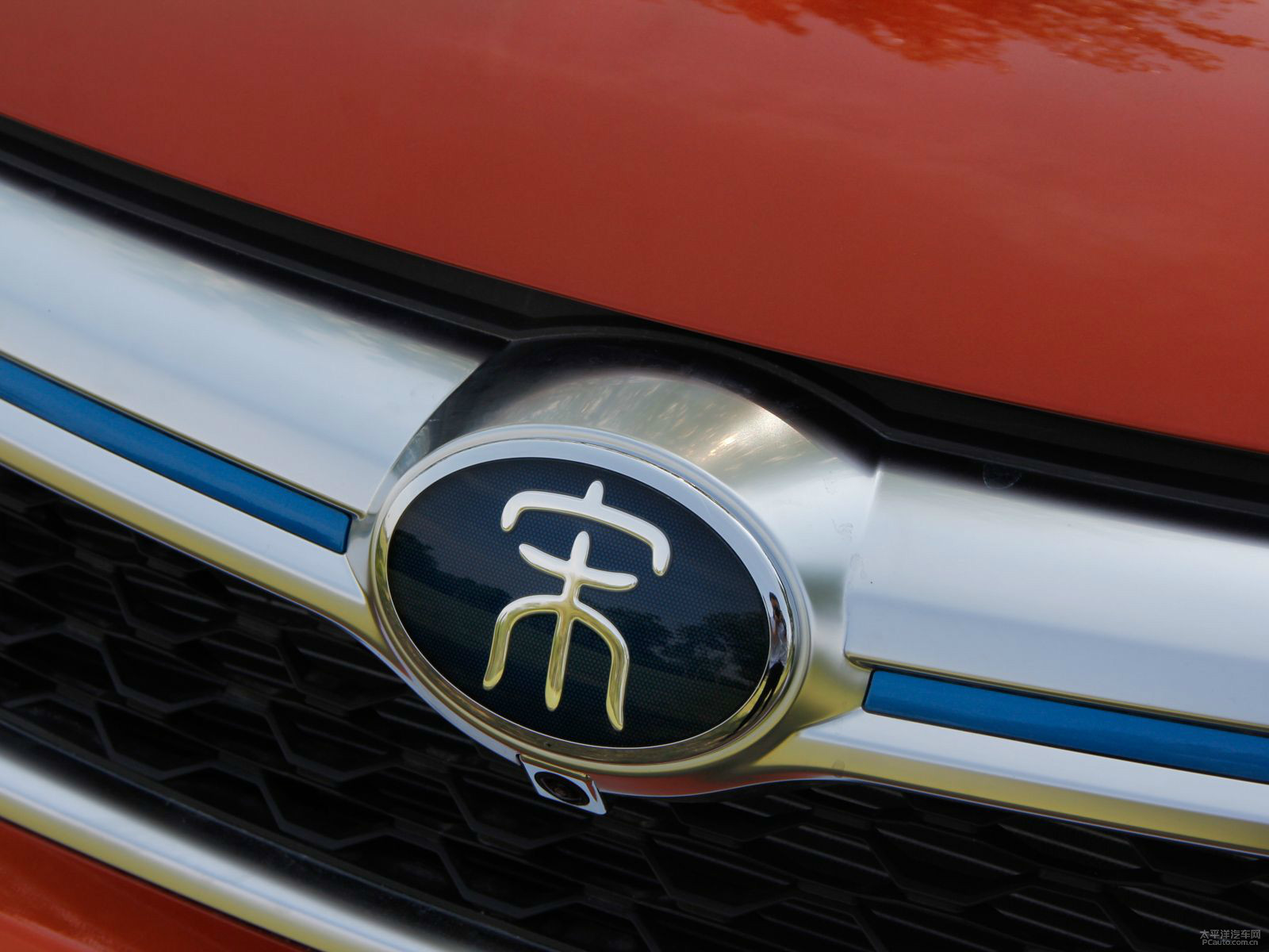BYD Song: (374, 439, 791, 762)
